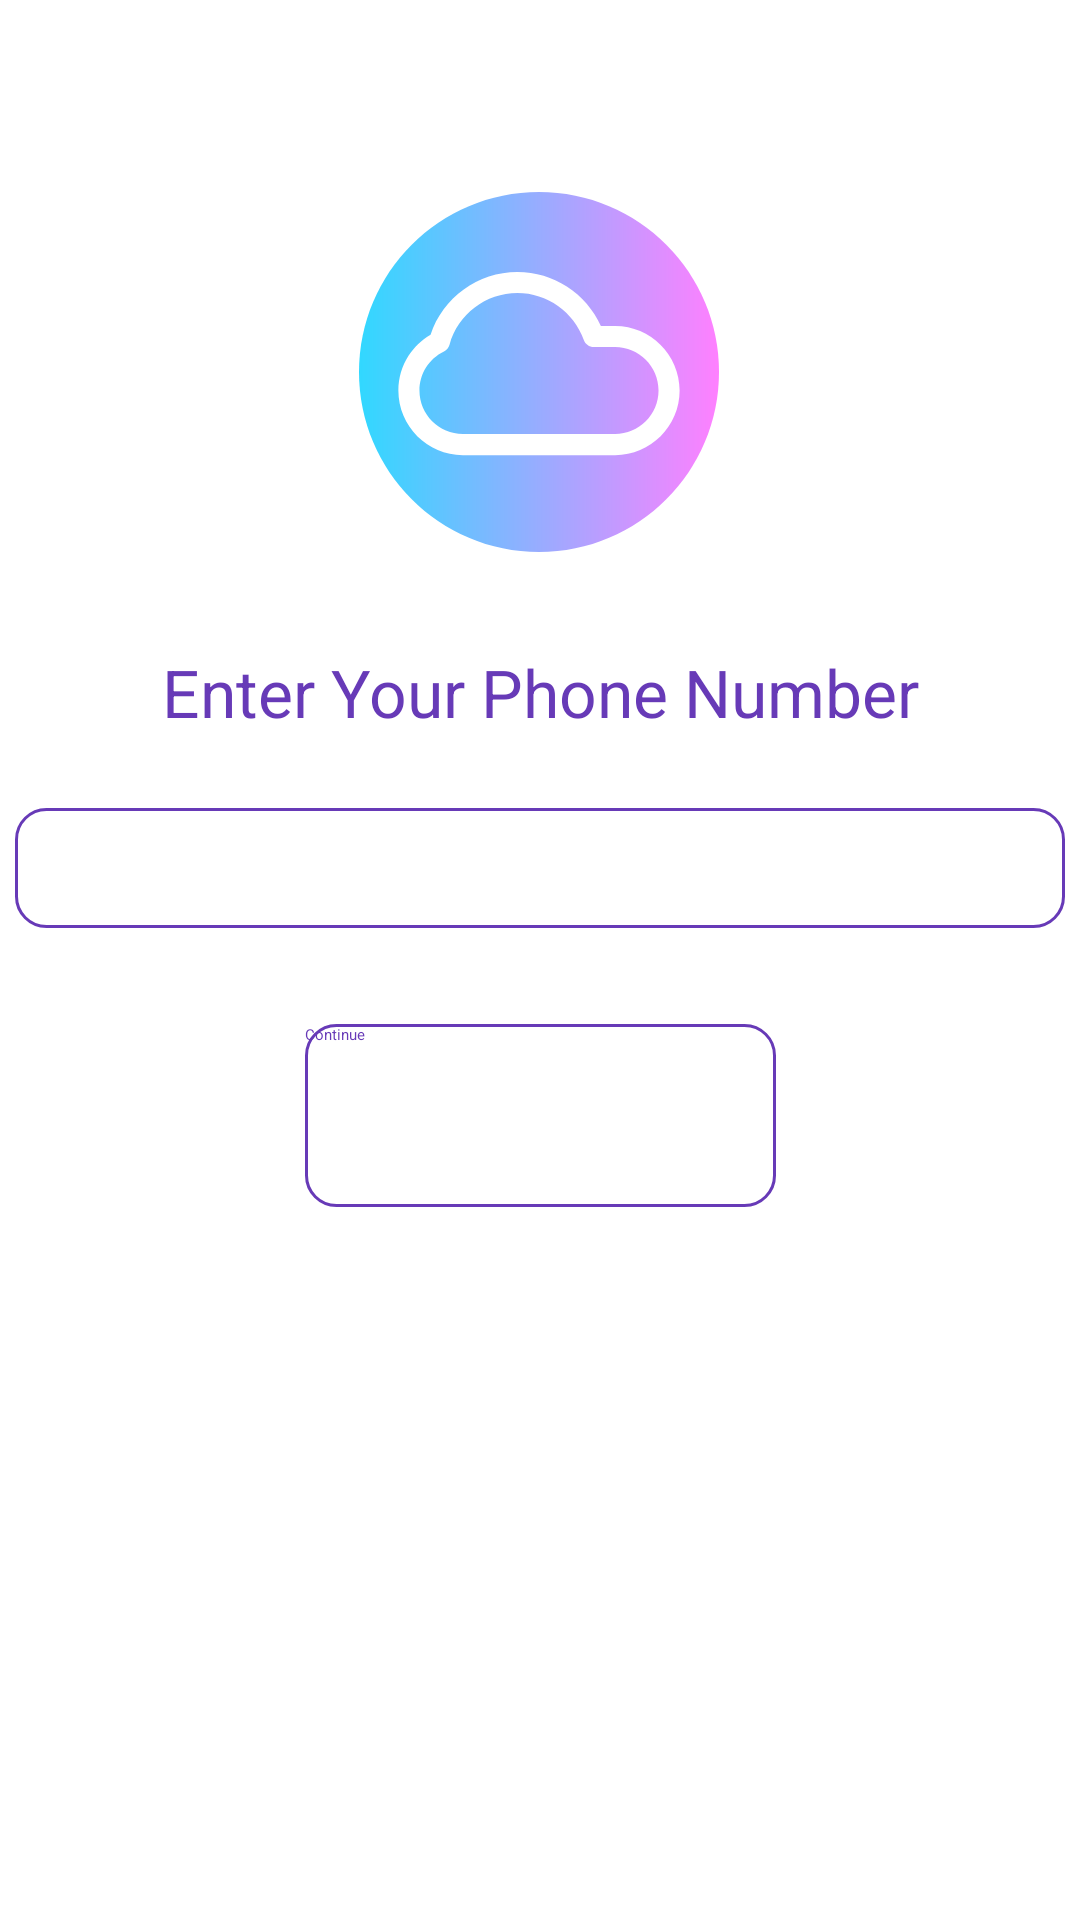

Where to tap for icons on this 1080*1920 app screen, as (x,y):
cloud computing: (539,372)
